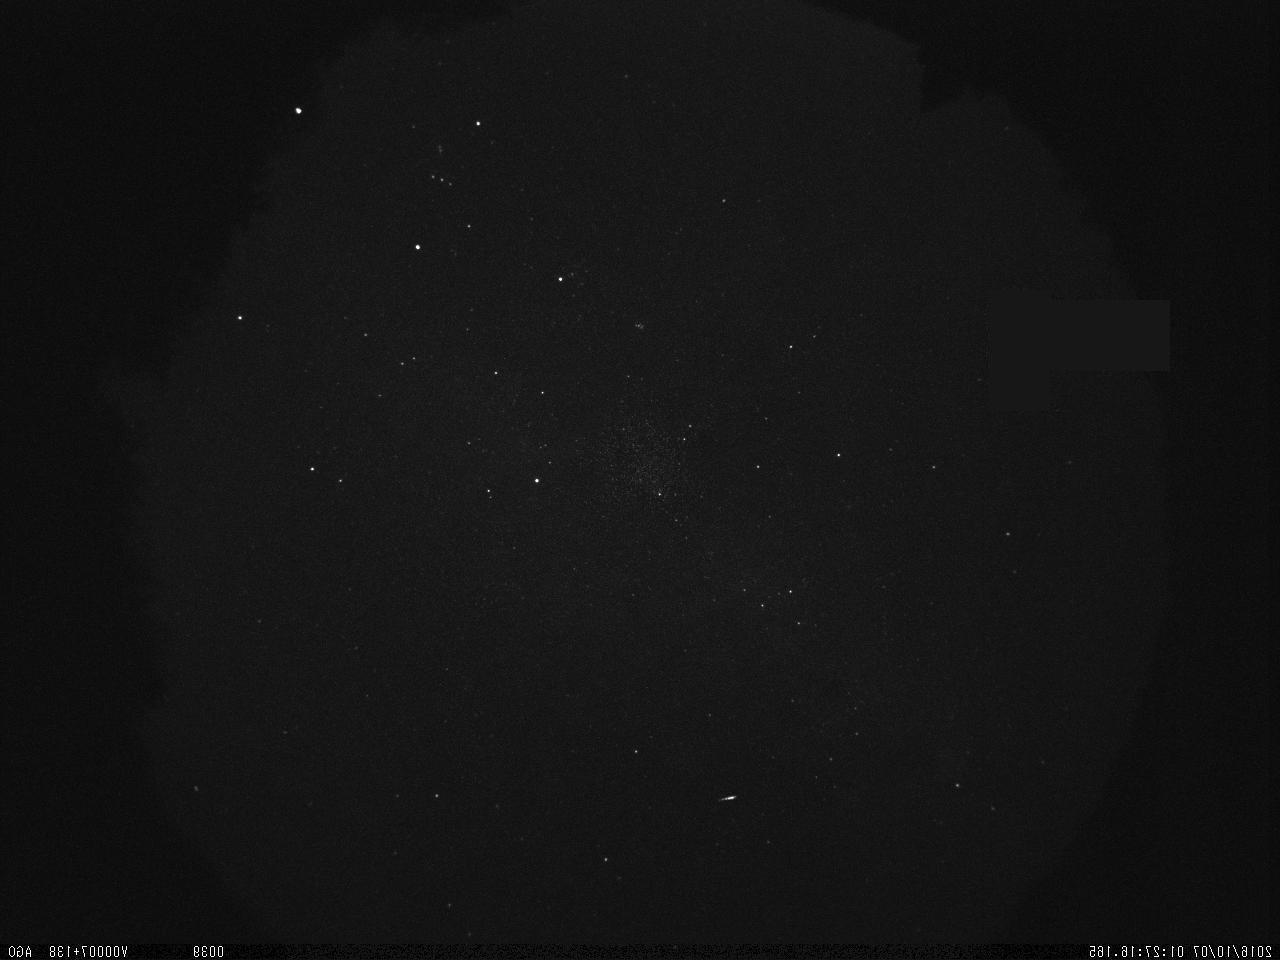meteor: (700, 777, 760, 821)
